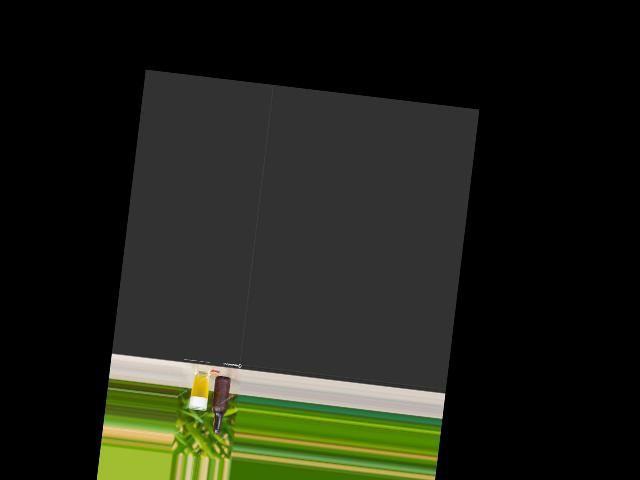beer: (208, 375, 230, 434)
